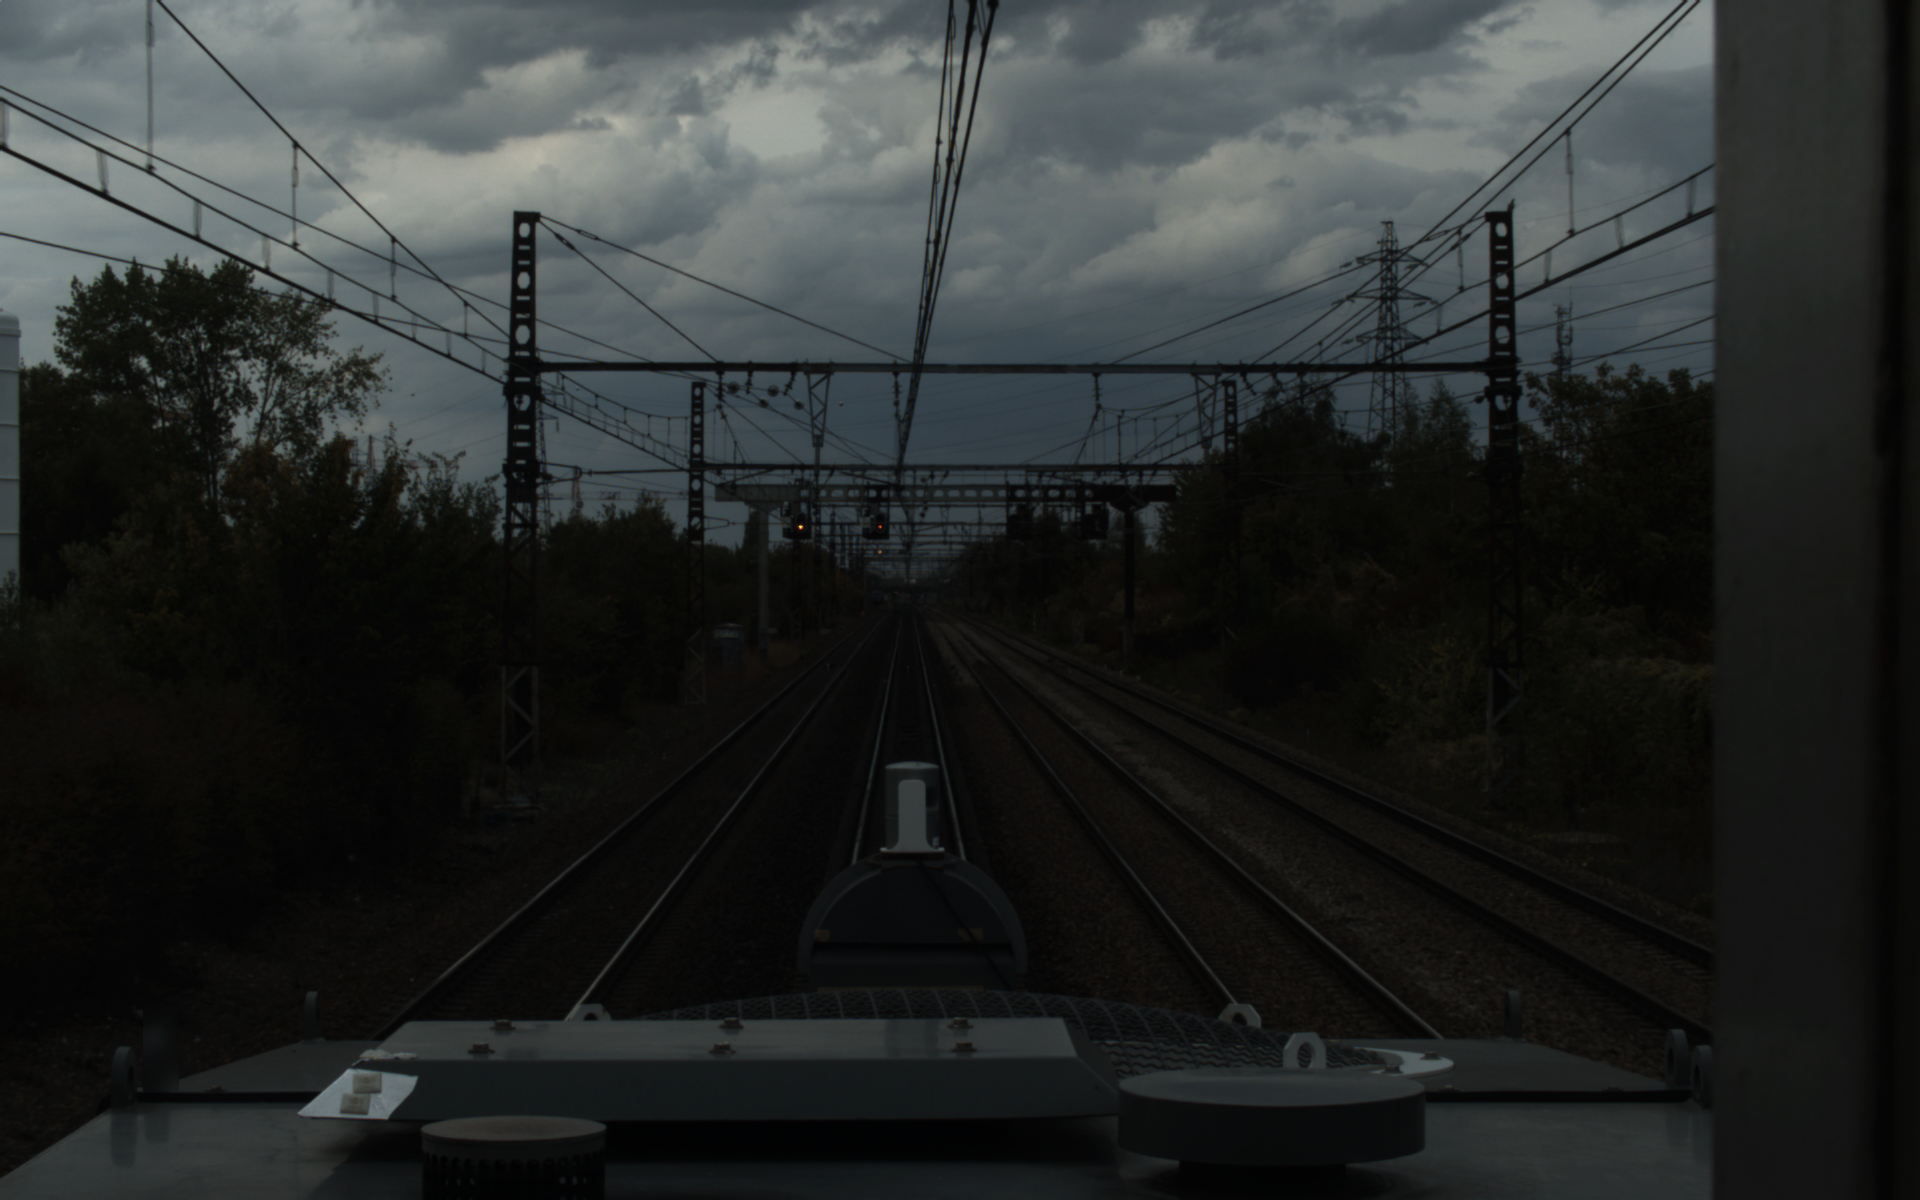Blinking: (874, 510, 887, 534)
Fixed: (792, 512, 809, 535)
